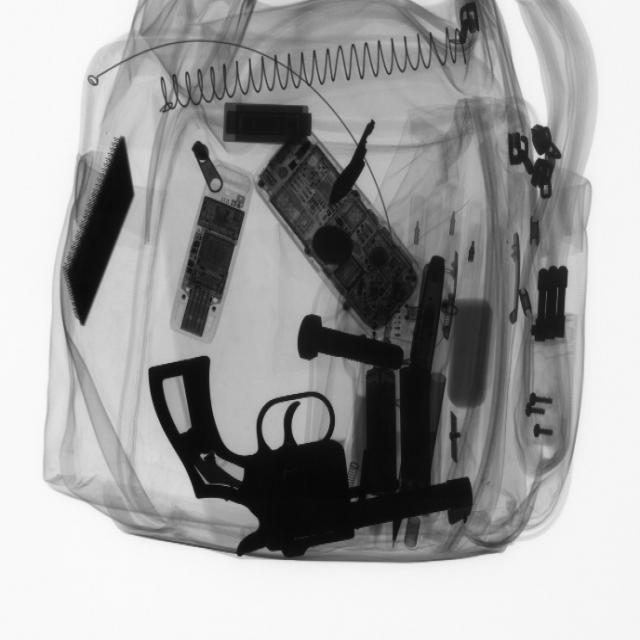GUN: (138, 344, 478, 561)
SCREW: (517, 387, 561, 455)
